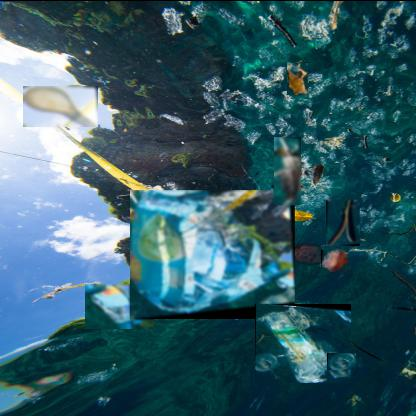bottle: (327, 351, 357, 369)
waste: (130, 188, 296, 318), (255, 302, 352, 382), (85, 282, 155, 328), (23, 84, 99, 126), (274, 135, 302, 204), (326, 196, 361, 244), (288, 60, 312, 94), (321, 248, 350, 270)
